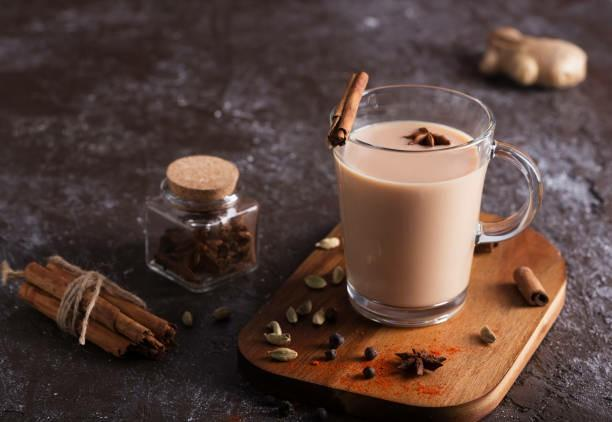Chai: (337, 123, 485, 308)
